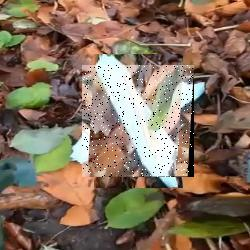restaffald: (82, 65, 194, 177)
